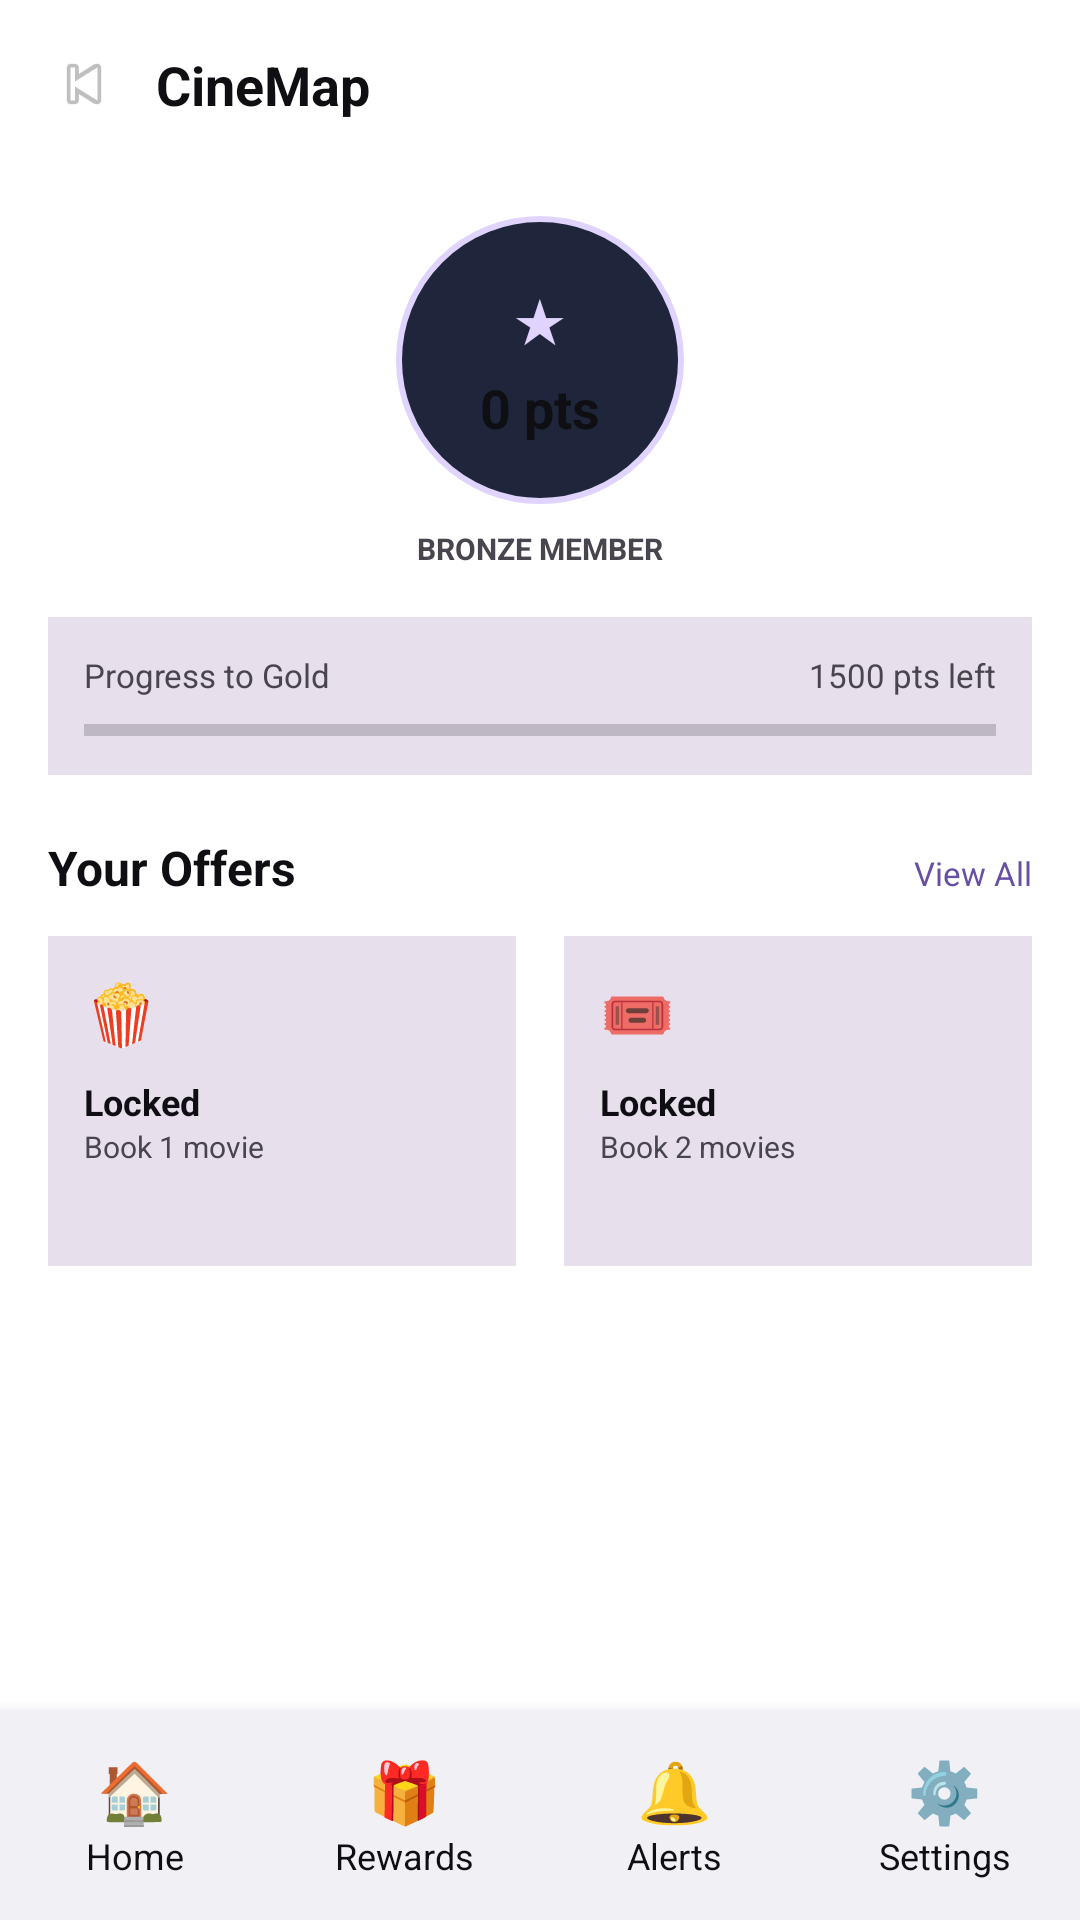

Icon bounding boxes for this 1080 × 1920 phone screenshot, format (x1=x1, y1=y1, x2=x2, y2=y2):
previous: (x1=67, y1=64, x2=101, y2=104)
